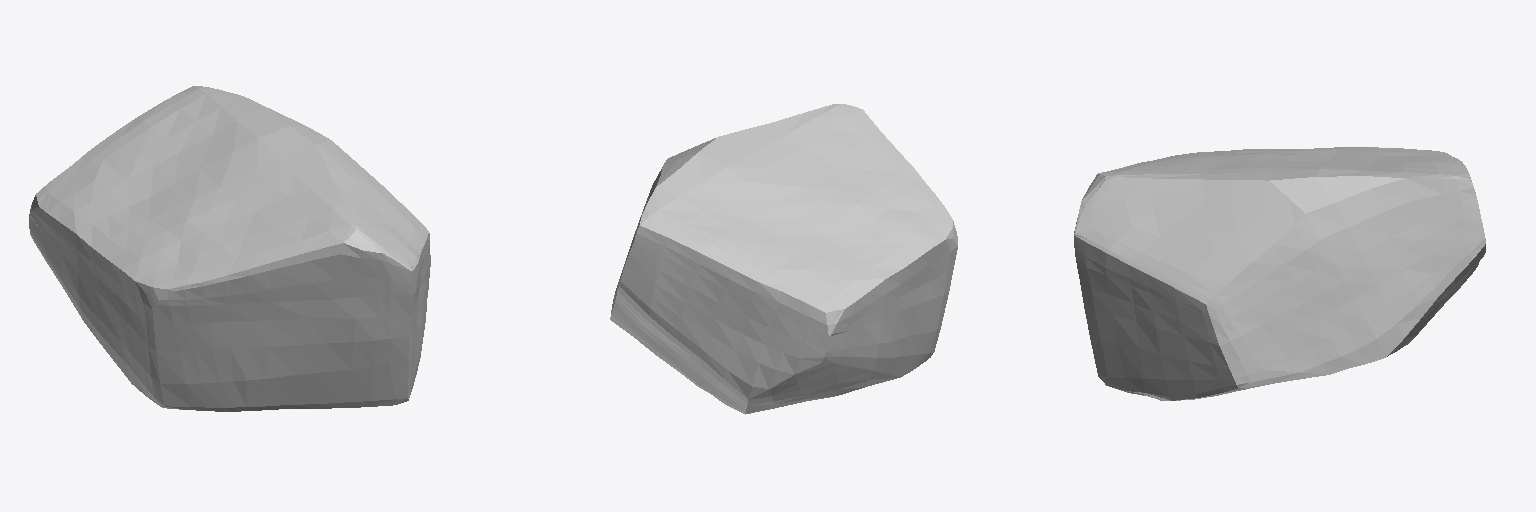
Rendered from rock3.obj.
The picture shows the model from 3 angles: view 1: azimuth 30°, elevation 25°; view 2: azimuth 150°, elevation 25°; view 3: azimuth 270°, elevation 25°; orthographic projection.
Visible parts, largest first — view 1: ST_Stone1; view 2: ST_Stone1; view 3: ST_Stone1.
Boxes of the visible parts, box(x1,y1,x2,y2) form: ST_Stone1: box(29, 86, 430, 411); ST_Stone1: box(610, 104, 957, 414); ST_Stone1: box(1074, 147, 1485, 400).
Bounding box in the file's own units: 1.39 × 0.9249 × 1.66.